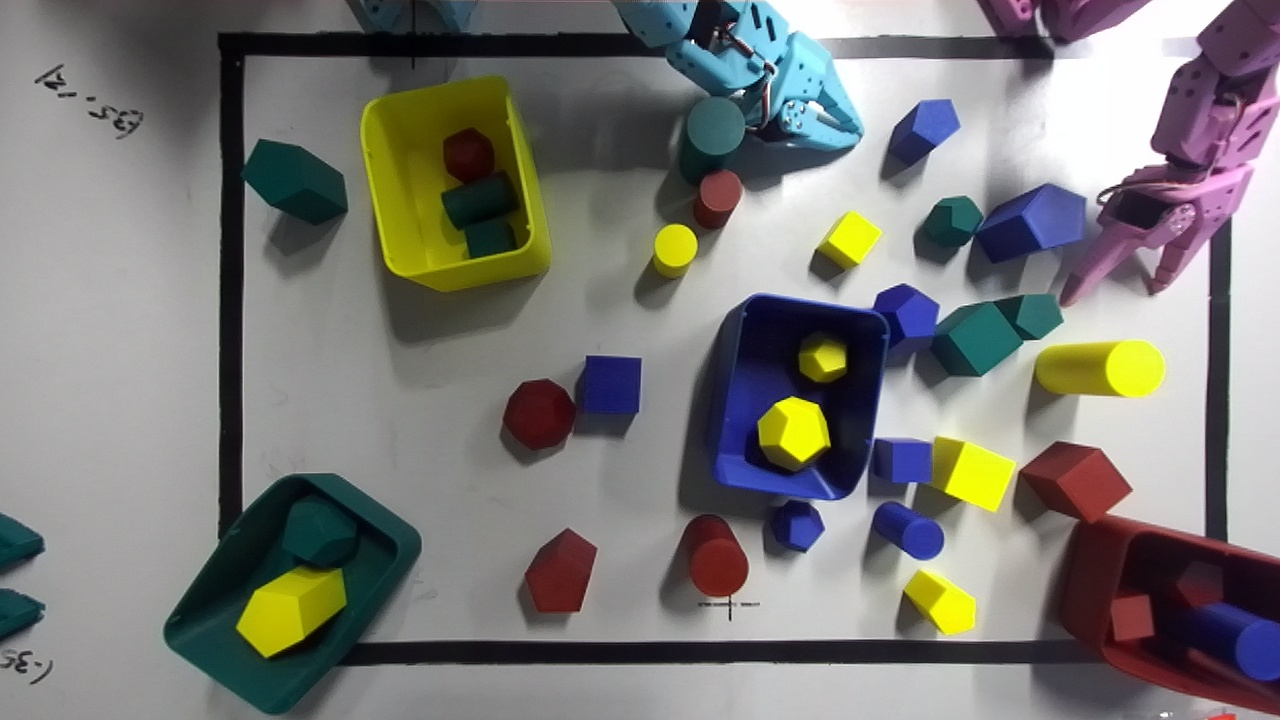bin: (164, 473, 420, 713), (1062, 516, 1279, 712), (360, 76, 550, 290), (705, 294, 889, 499)
cube: (1019, 441, 1131, 522), (930, 302, 1022, 375), (930, 437, 1014, 511), (576, 355, 641, 414), (816, 211, 882, 269), (870, 438, 931, 483), (1110, 593, 1154, 641), (464, 218, 516, 257)
cylinder: (1161, 603, 1279, 680), (1033, 340, 1164, 396), (682, 515, 748, 618), (679, 97, 744, 183), (441, 172, 516, 228), (872, 501, 943, 559), (693, 170, 742, 228), (652, 224, 697, 278)
dodecahedron: (757, 397, 830, 471), (281, 495, 356, 566), (503, 379, 575, 449), (873, 283, 939, 350), (922, 196, 983, 246), (770, 500, 824, 552), (443, 128, 494, 183), (797, 332, 846, 382), (1177, 561, 1222, 605)
hexagonal: (236, 566, 346, 657), (962, 183, 1085, 262), (241, 139, 347, 224), (525, 528, 596, 612), (888, 99, 959, 167), (904, 569, 975, 634), (995, 293, 1062, 339)
